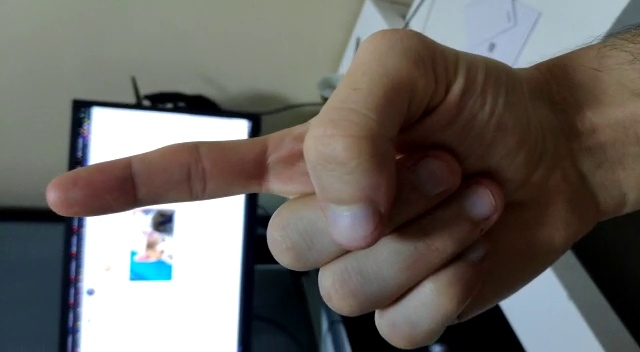One: (31, 3, 621, 352)
